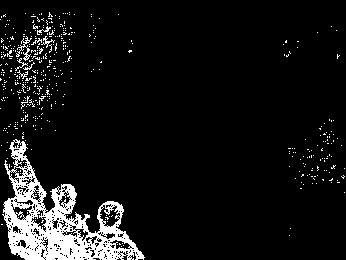person: (3, 175, 46, 260), (45, 183, 93, 259), (5, 139, 45, 202)
